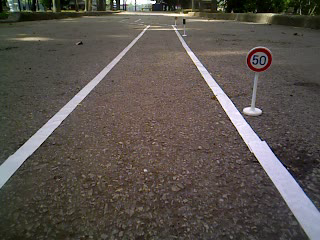limit 50: (245, 44, 276, 75)
